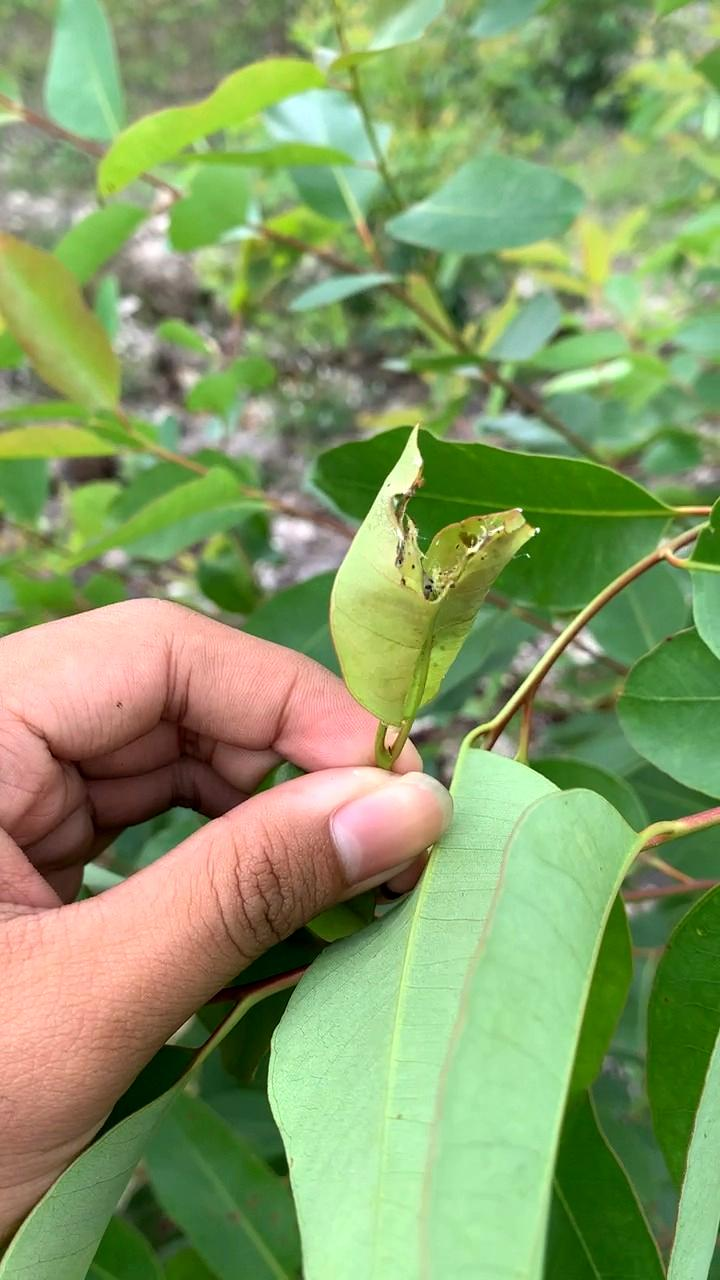Leaf Roller - Leaf: (328, 438, 537, 745)
